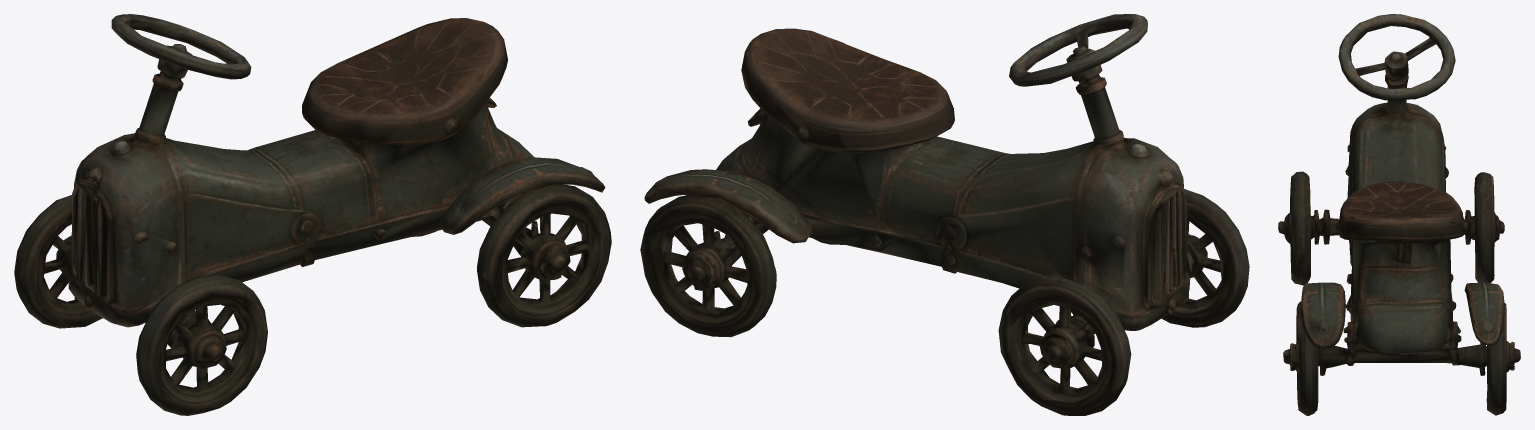
The model's file is Meshy_AI_Rusty_Iron_Pedal_Car_0801143638_texture.fbx.
3 renders of one model, left to right at view 1: azimuth 30°, elevation 25°; view 2: azimuth 150°, elevation 25°; view 3: azimuth 270°, elevation 25°, orthographic. The views are drawn at different scales.
Visible parts, largest first — view 1: Mesh1.0; view 2: Mesh1.0; view 3: Mesh1.0.
Part boxes in pixels (box(x1,y1,x2,y2)): Mesh1.0: box(14, 14, 611, 415); Mesh1.0: box(640, 14, 1249, 415); Mesh1.0: box(1278, 14, 1520, 415).
Bounding box in the file's own units: 190 × 128 × 108.
1 material, 1 textured.
